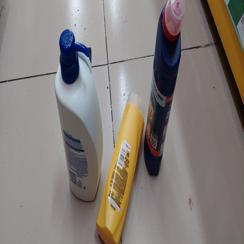h_s: (54, 26, 105, 201)
sunsilk yellow: (96, 100, 146, 244)
vim blue: (143, 1, 184, 177)
